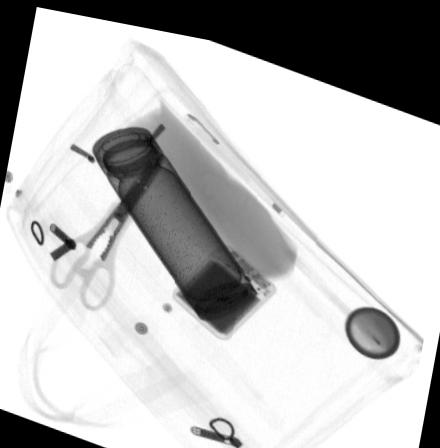Powerbank: (171, 235, 278, 329)
Scissors: (49, 141, 165, 306)
